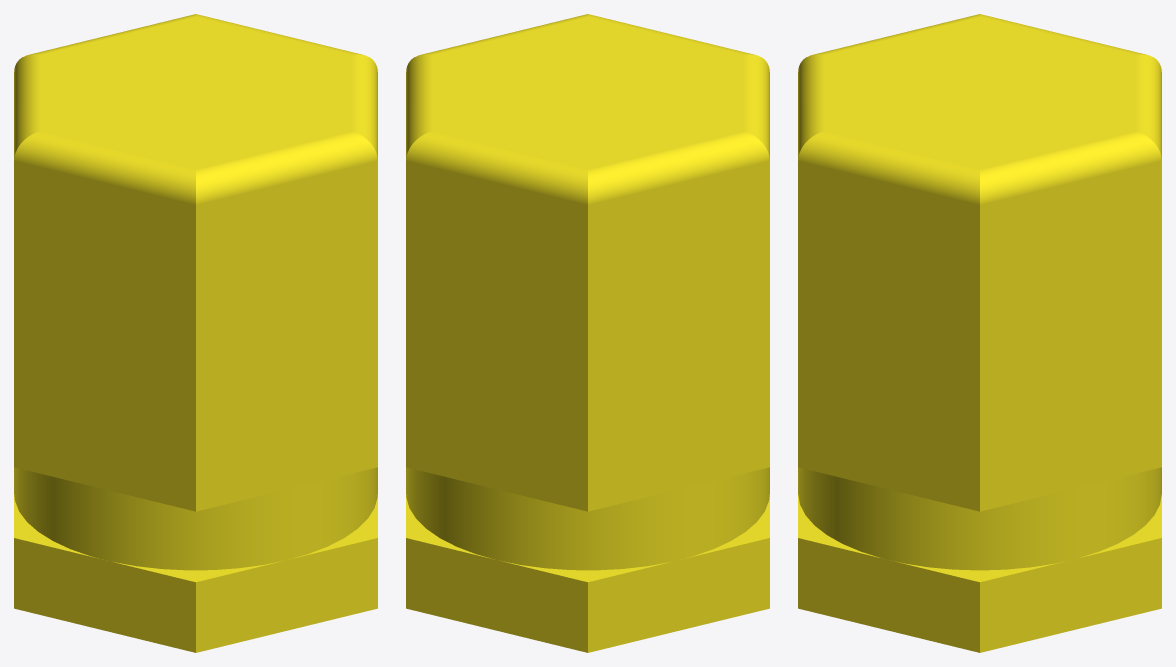
The model's file is 32-41-13-030-801-A01 valve cap.fbx.
The picture shows the model from 3 angles, left to right: view 1: azimuth 30°, elevation 25°; view 2: azimuth 150°, elevation 25°; view 3: azimuth 270°, elevation 25°; orthographic projection.
Visible parts, largest first — view 1: Part12; view 2: Part12; view 3: Part12.
Boxes of the visible parts, <box> form: Part12: <box>14,14,377,652</box>; Part12: <box>406,14,769,652</box>; Part12: <box>798,14,1161,652</box>.
Bounding box in the file's own units: 1.62 × 2 × 1.4.
